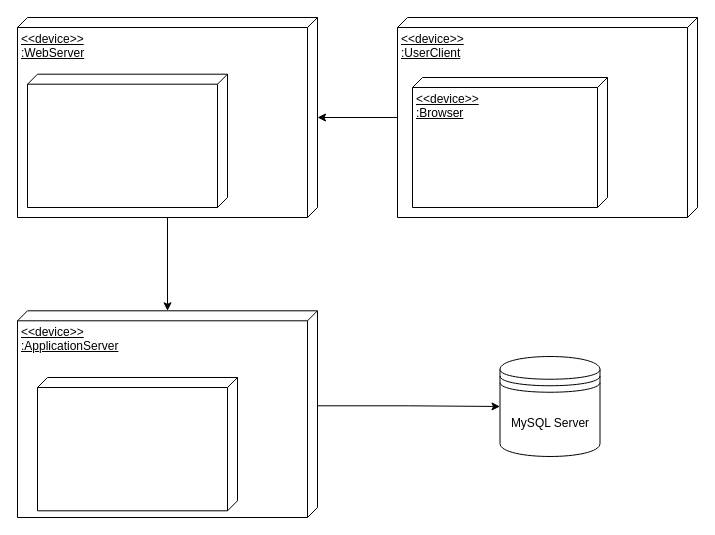
This 715x535 diagram has some shape labels left out. The centre of each missing label's shape, as x and y in pixels:
<<artifact>> ORM BusinessLogic: the point at 137,443
<<artifact>> Website: the point at 127,140
